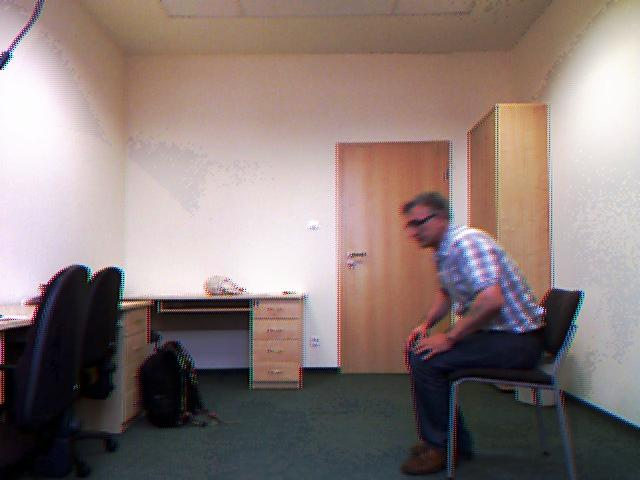sitting: (385, 180, 537, 480)
